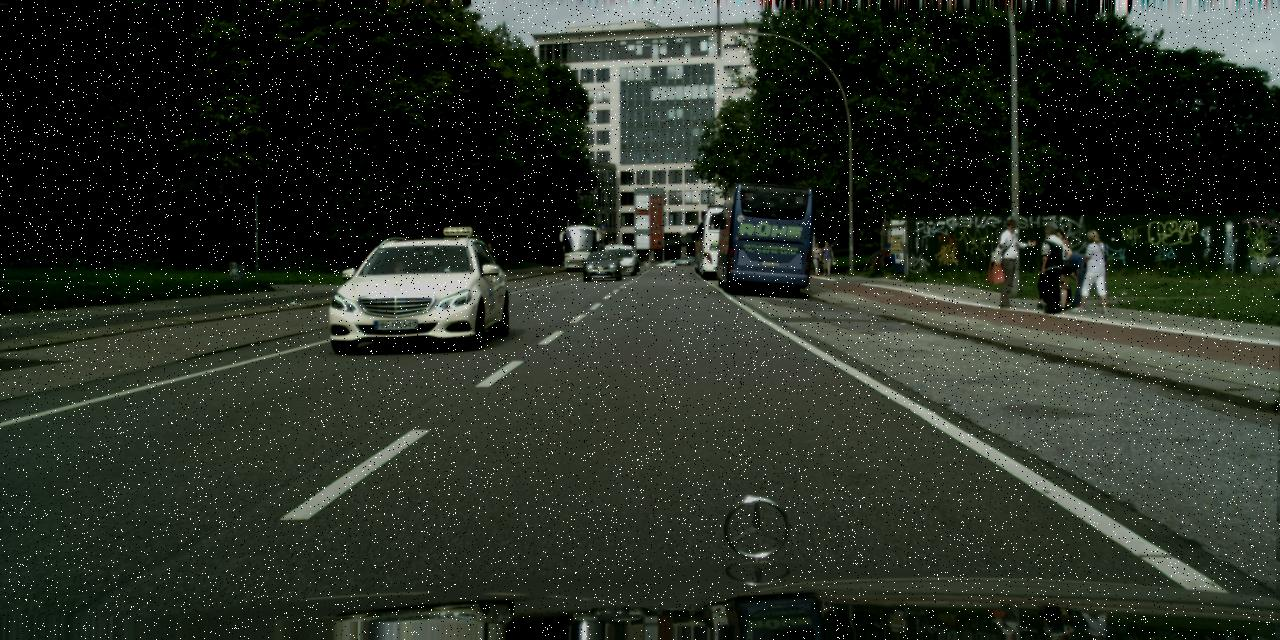ped: (1032, 224, 1068, 312), (989, 218, 1024, 308), (1075, 229, 1109, 313), (1040, 230, 1072, 309), (1046, 229, 1076, 302), (819, 240, 833, 276), (811, 242, 823, 274), (484, 242, 496, 274)
